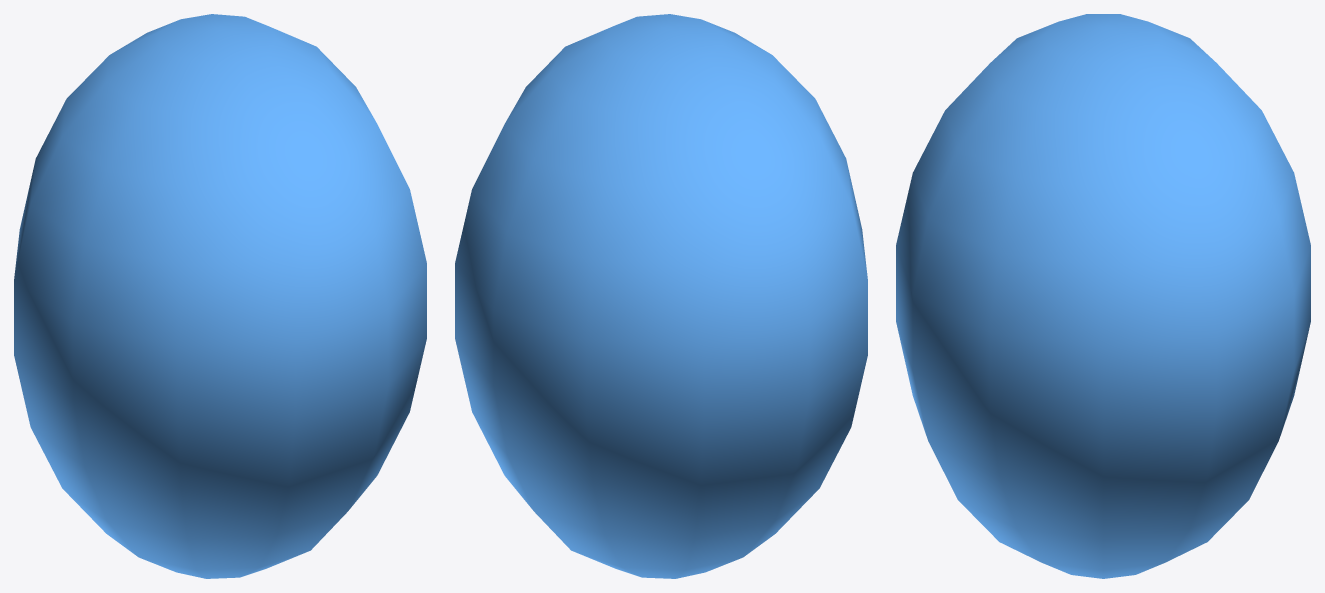
The model's file is nimboreo_stage1.obj.
The picture shows the model from 3 angles, left to right: view 1: azimuth 30°, elevation 25°; view 2: azimuth 150°, elevation 25°; view 3: azimuth 270°, elevation 25°; orthographic projection.
Size of the model in its own units: 1.36 by 1.96 by 1.37.
